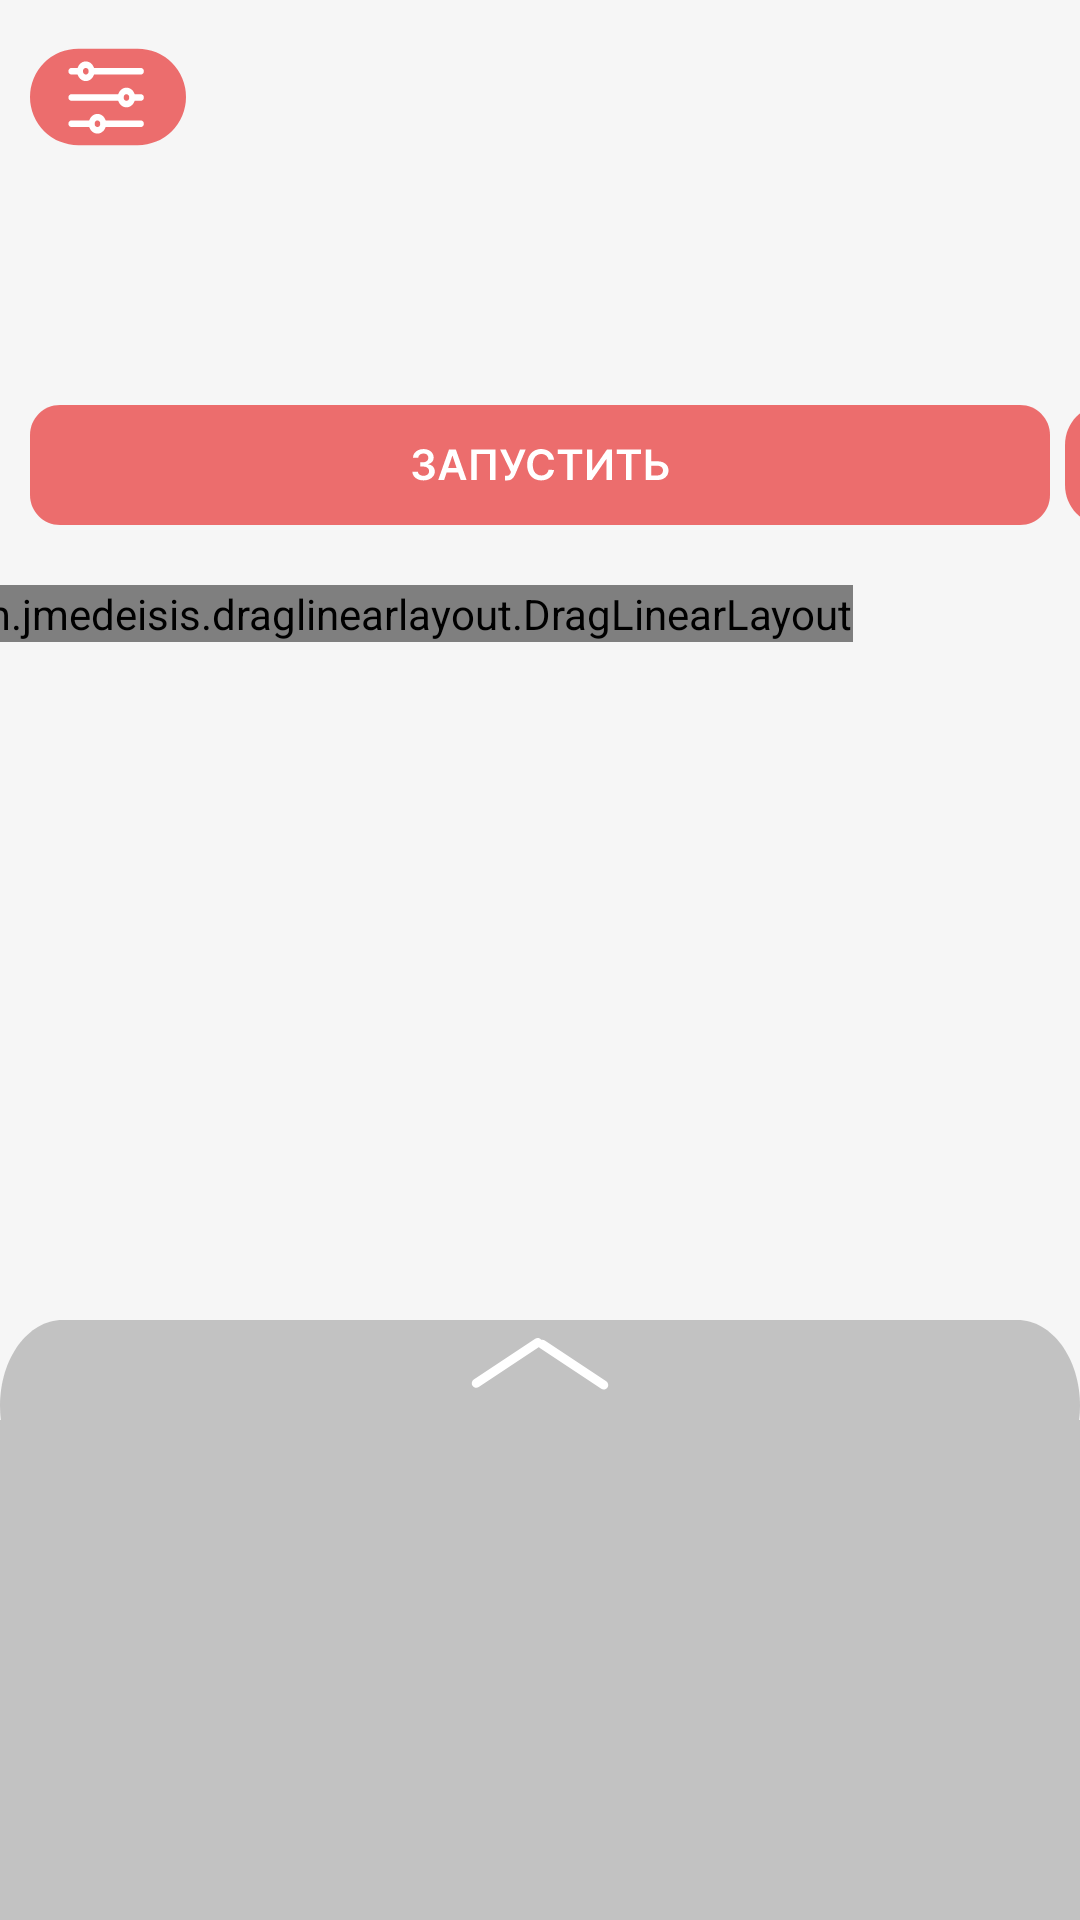

Named icons in this screenshot (1080px x 1920px) and their bounding boxes, (x1, y1, x2, y2):
Filter: (30, 48, 186, 146)
